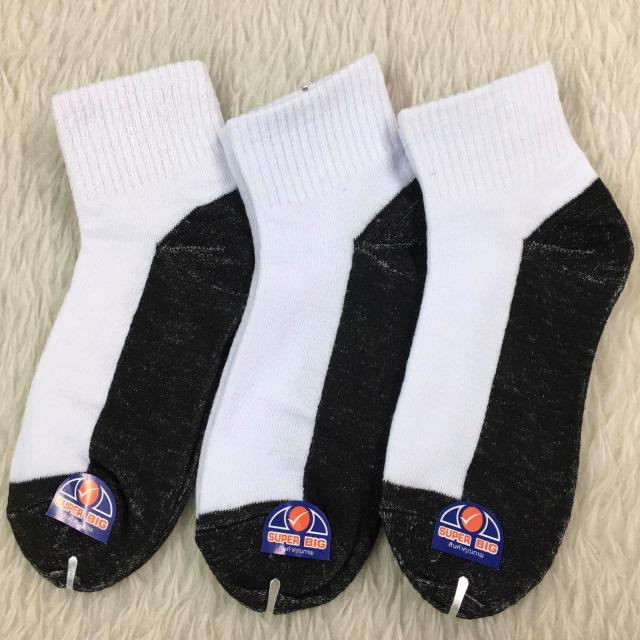sock: (378, 60, 634, 620), (5, 58, 252, 592), (193, 52, 424, 614)
